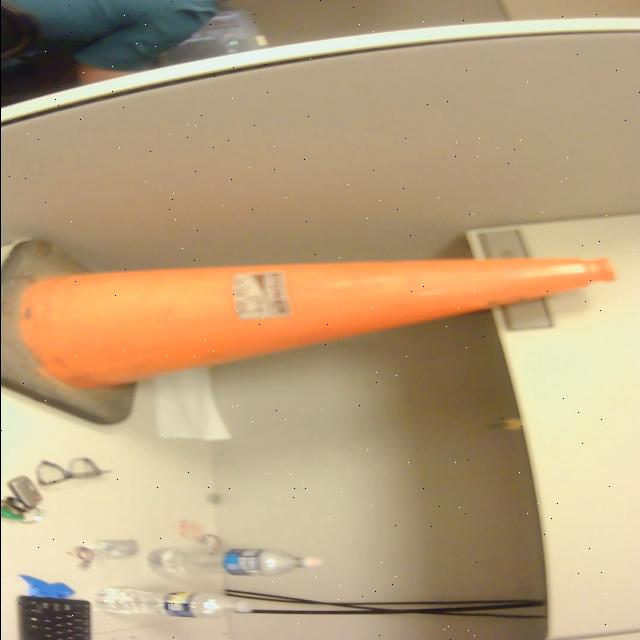traffic cone: (2, 236, 626, 433)
